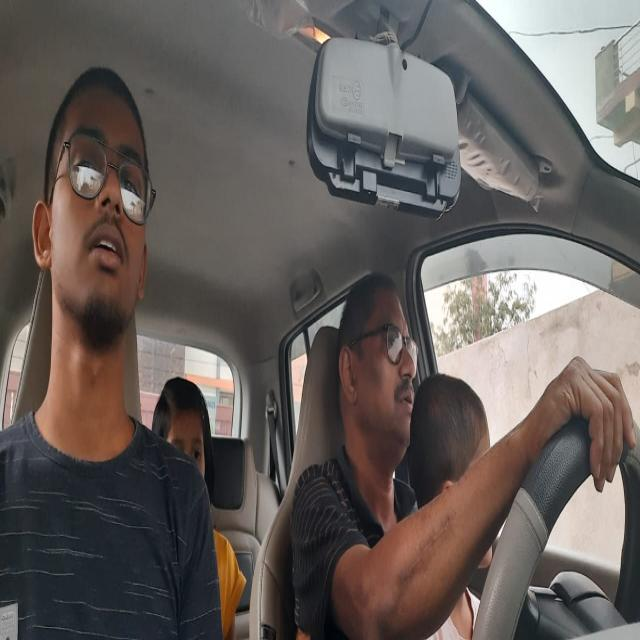child: (410, 383, 490, 468)
person: (34, 70, 156, 348), (334, 287, 418, 465), (158, 377, 214, 474)
